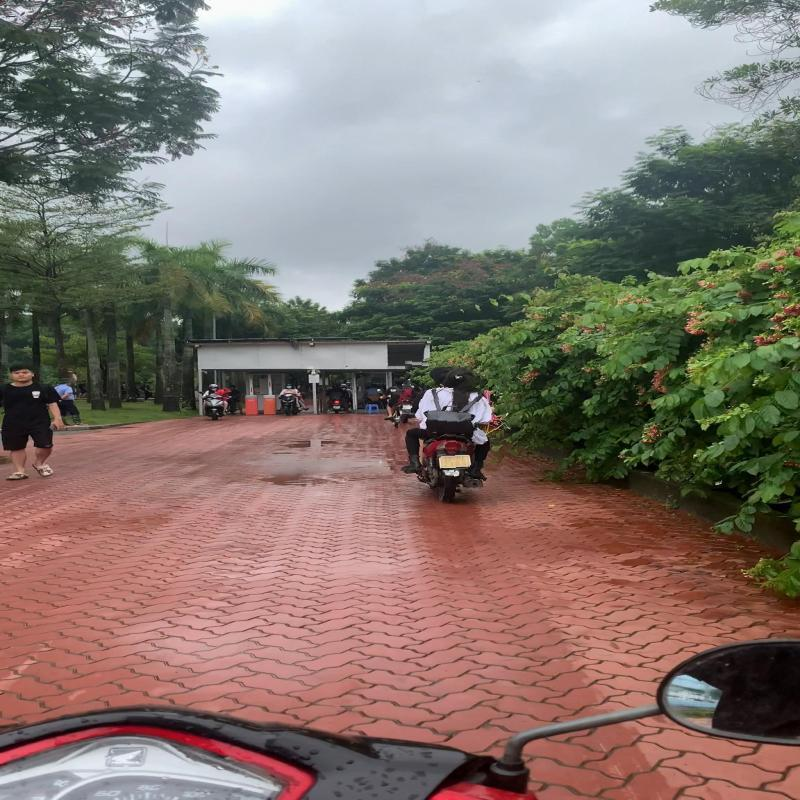licenseplate: (436, 452, 475, 470)
motorcyclist: (395, 362, 508, 506)
nohelmet: (444, 366, 480, 388), (426, 364, 452, 384)
